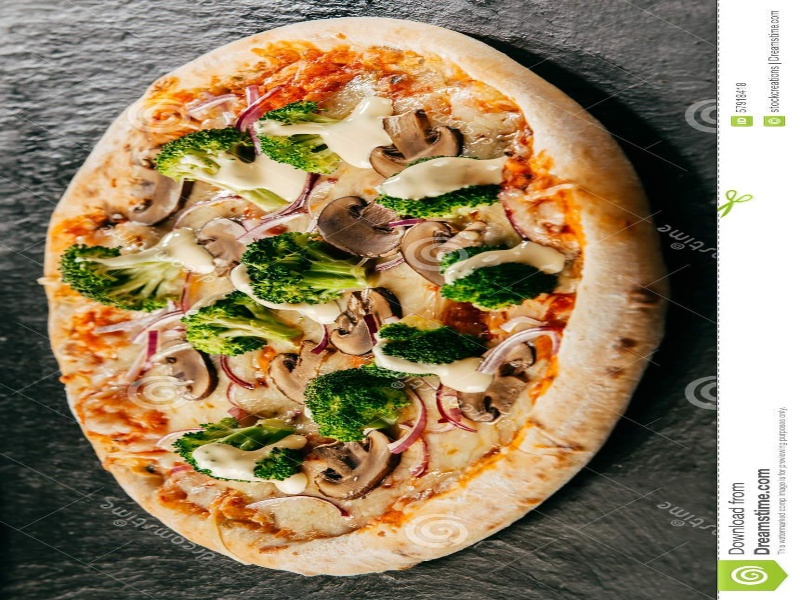champignon: (362, 106, 467, 183), (311, 431, 397, 506), (318, 192, 407, 258), (265, 339, 331, 406), (123, 165, 193, 228)
